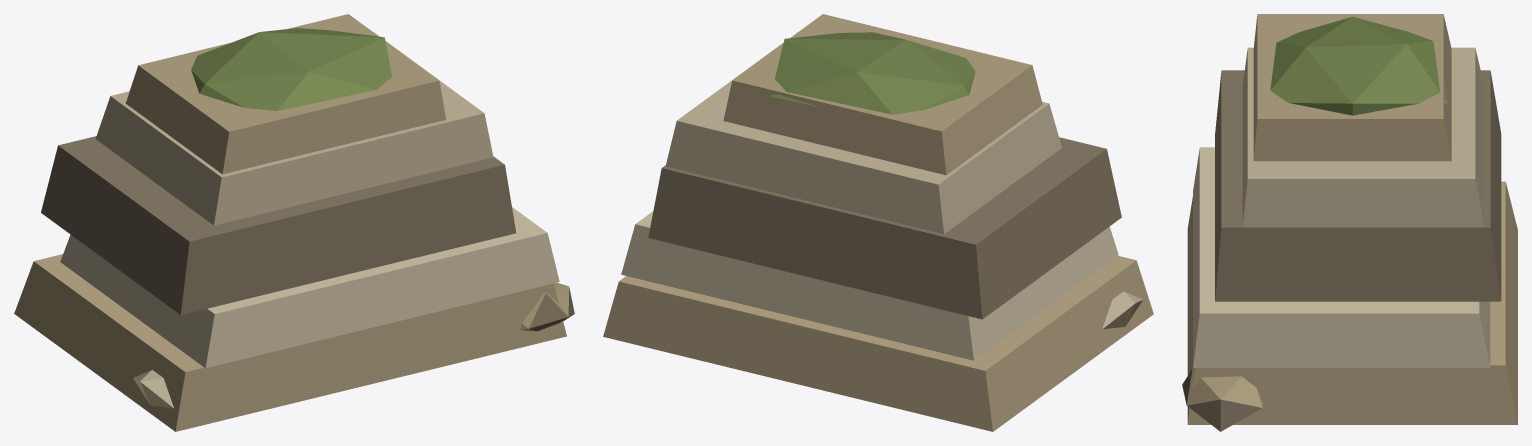
The model's file is dolomite_outcrop.glb.
The picture shows the model from 3 angles, left to right: view 1: azimuth 30°, elevation 25°; view 2: azimuth 150°, elevation 25°; view 3: azimuth 270°, elevation 25°; orthographic projection. The views are drawn at different scales.
Visible parts, largest first — view 1: dolomite_outcrop; view 2: dolomite_outcrop; view 3: dolomite_outcrop.
Boxes of the visible parts, x1,y1,x2,y2 form: dolomite_outcrop: [14, 14, 574, 431]; dolomite_outcrop: [603, 14, 1153, 431]; dolomite_outcrop: [1182, 14, 1517, 431].
Size of the model in its own units: 4.55 by 2.82 by 3.05.
